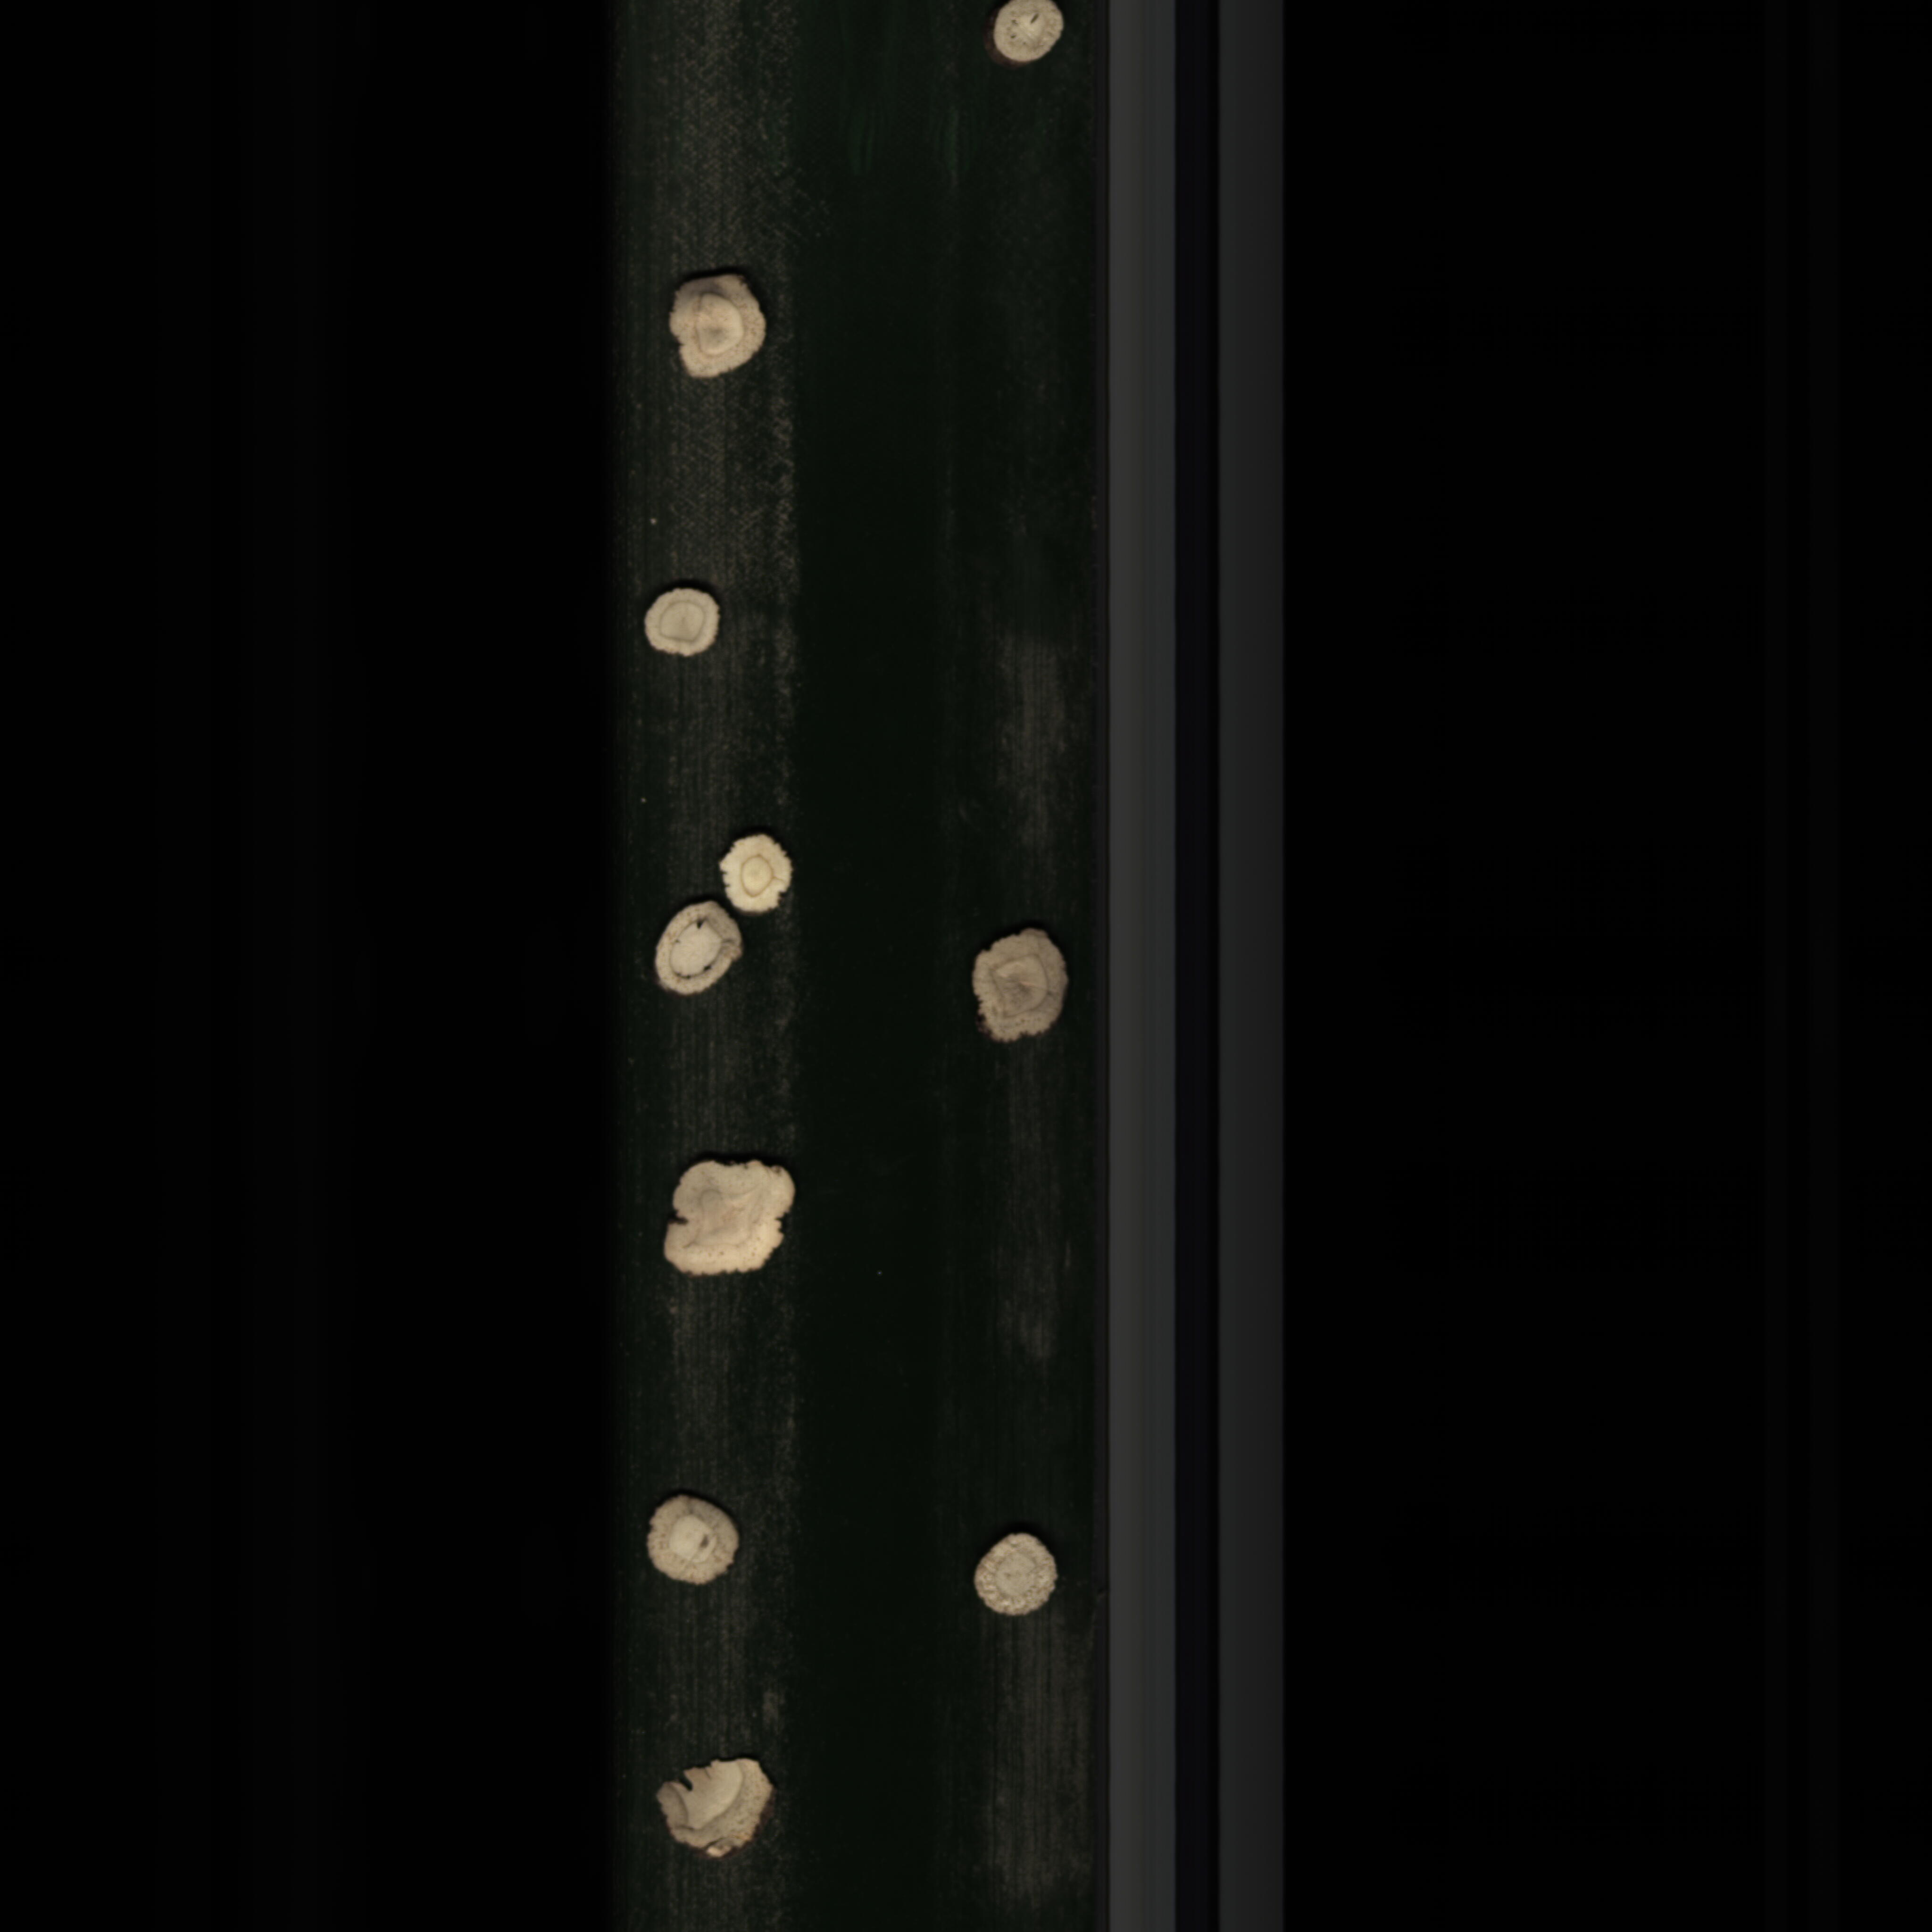debris: (637, 1752, 784, 1863)
distortion: (646, 1141, 819, 1306)
